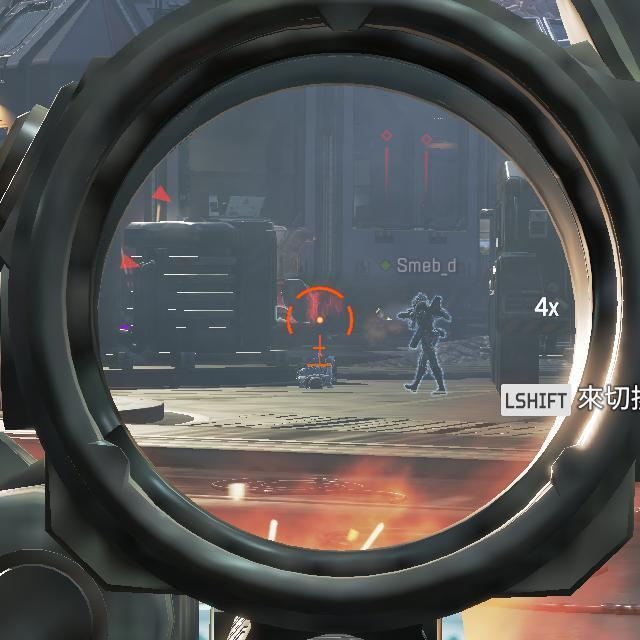avatar: (401, 289, 449, 398)
